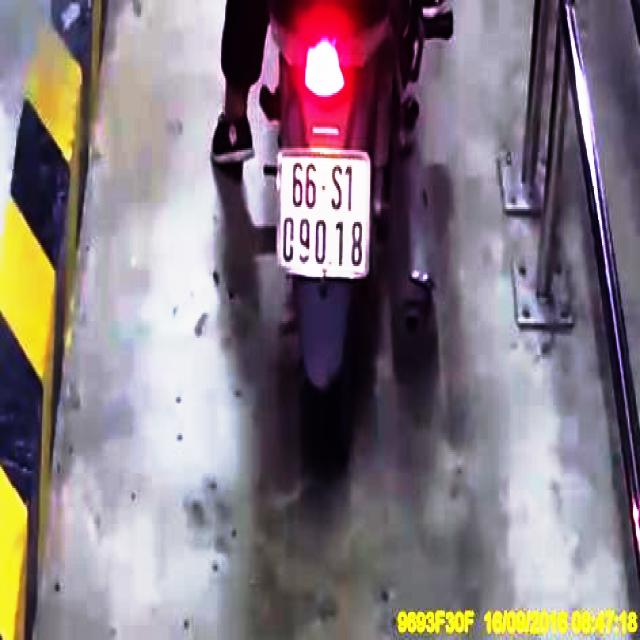license_plate: (279, 151, 371, 277)
